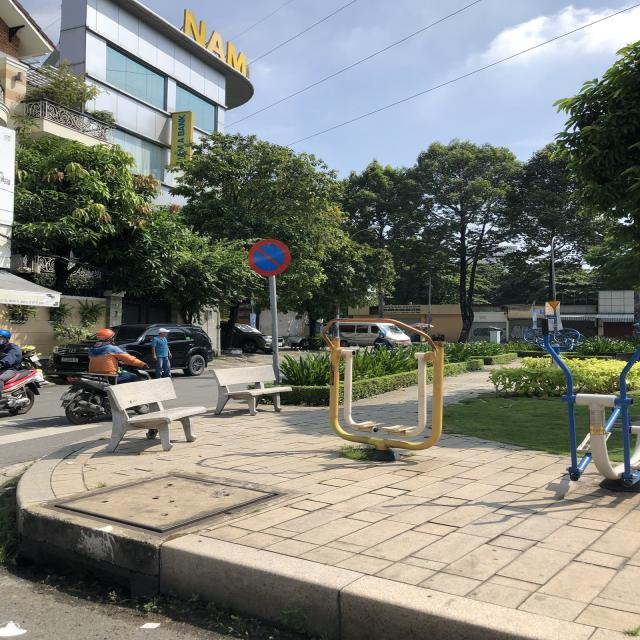Bien bao cam do xe: (243, 237, 295, 278)
